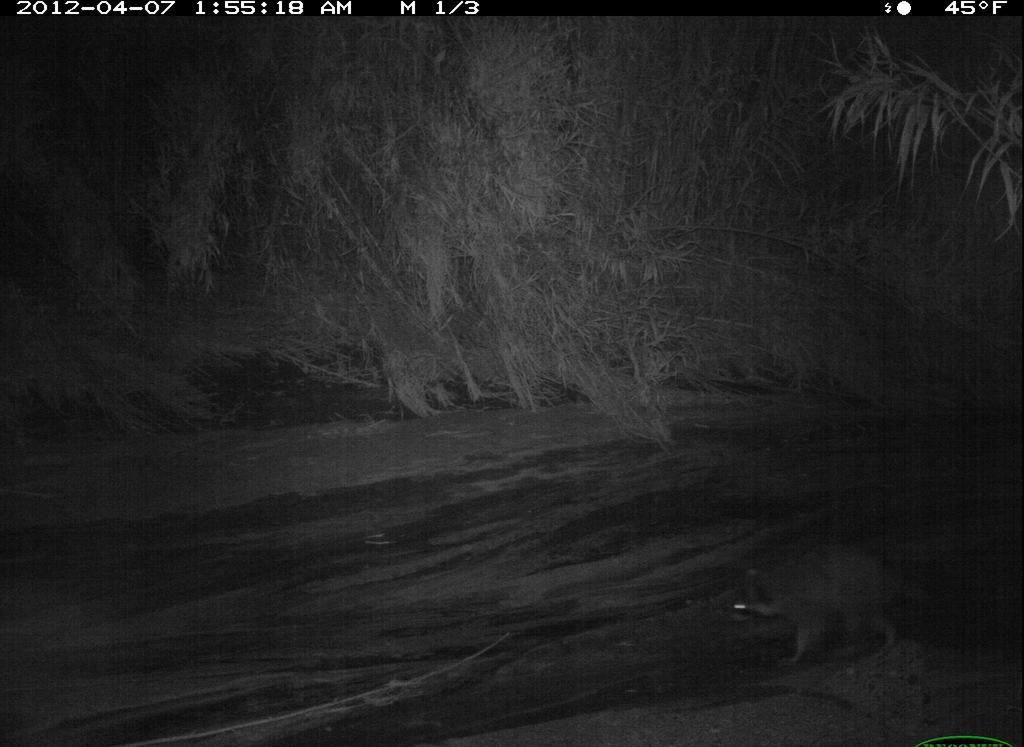raccoon: (712, 524, 961, 680)
